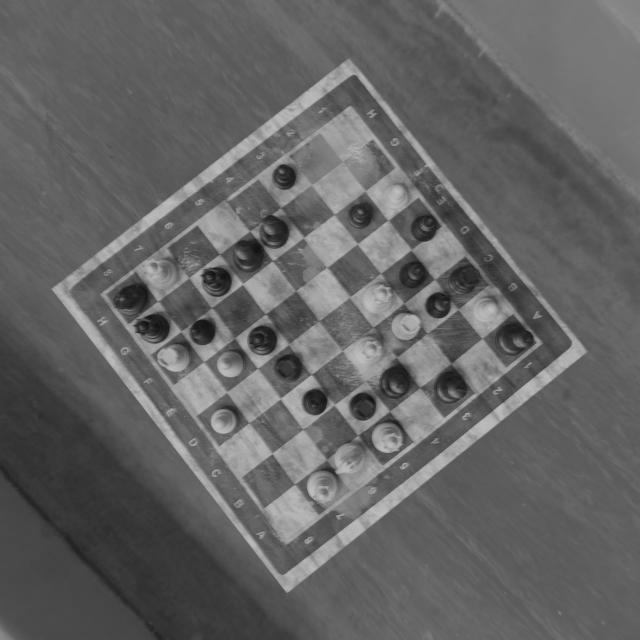chessboard: (102, 107, 540, 544)
